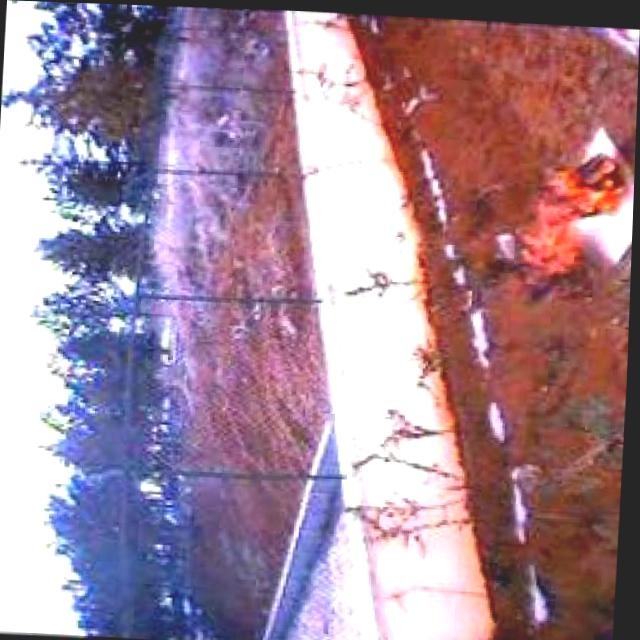helmet: (517, 137, 628, 276)
no_helmet: (517, 137, 628, 276)
